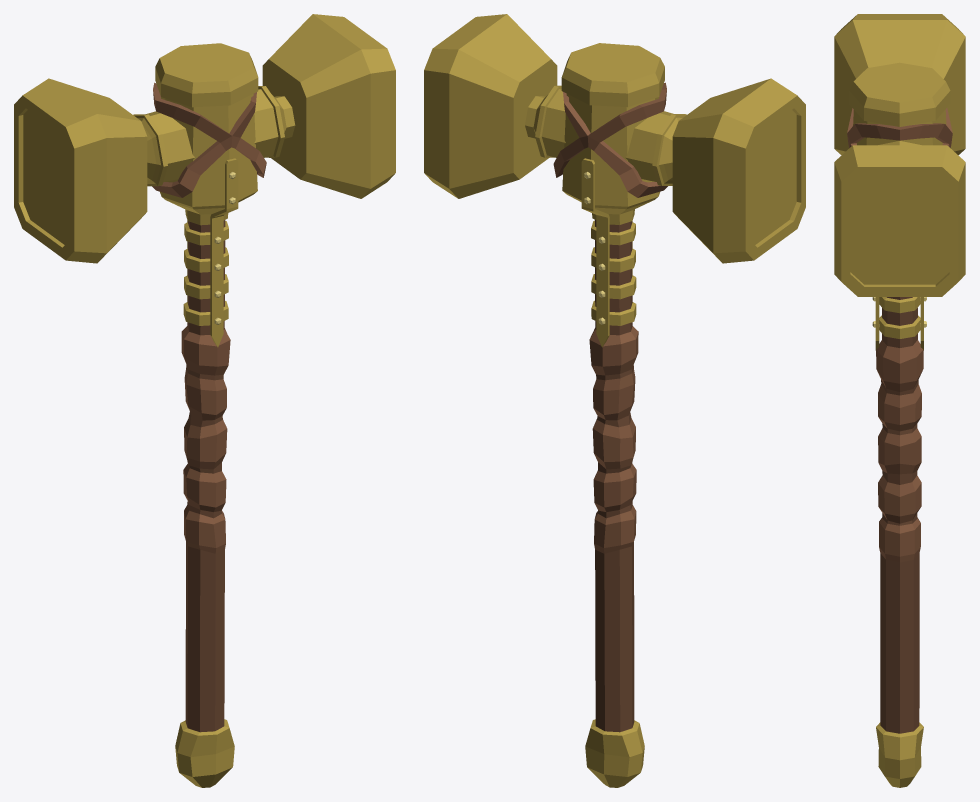
File: SM_Hammer_Double_Golden.fbx
The picture shows the model from 3 angles, left to right: view 1: azimuth 30°, elevation 25°; view 2: azimuth 150°, elevation 25°; view 3: azimuth 270°, elevation 25°; orthographic projection. The views are drawn at different scales.
Parts seen in each view (by area): view 1: SM_Hammer_Double_Golden; view 2: SM_Hammer_Double_Golden; view 3: SM_Hammer_Double_Golden.
Part boxes in pixels (<box>): SM_Hammer_Double_Golden: <box>14,14,395,787</box>; SM_Hammer_Double_Golden: <box>424,14,805,787</box>; SM_Hammer_Double_Golden: <box>834,14,965,787</box>.
Bounding box in the file's own units: 118 × 253 × 42.91.
